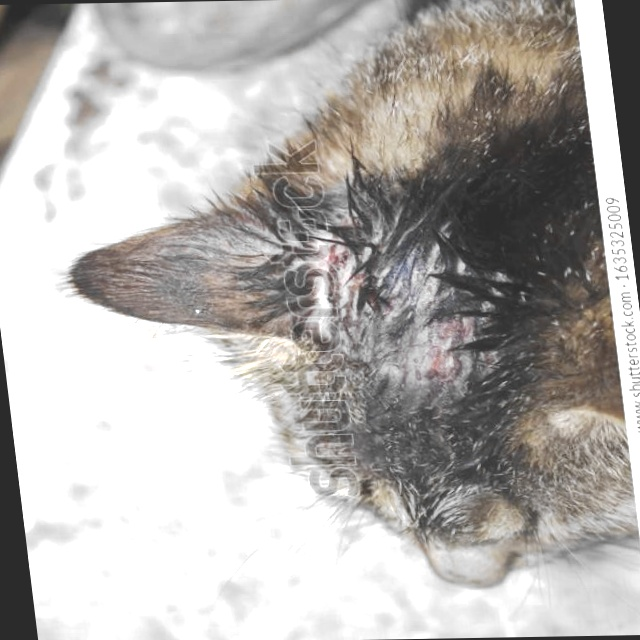ringworm: (289, 213, 487, 396)
